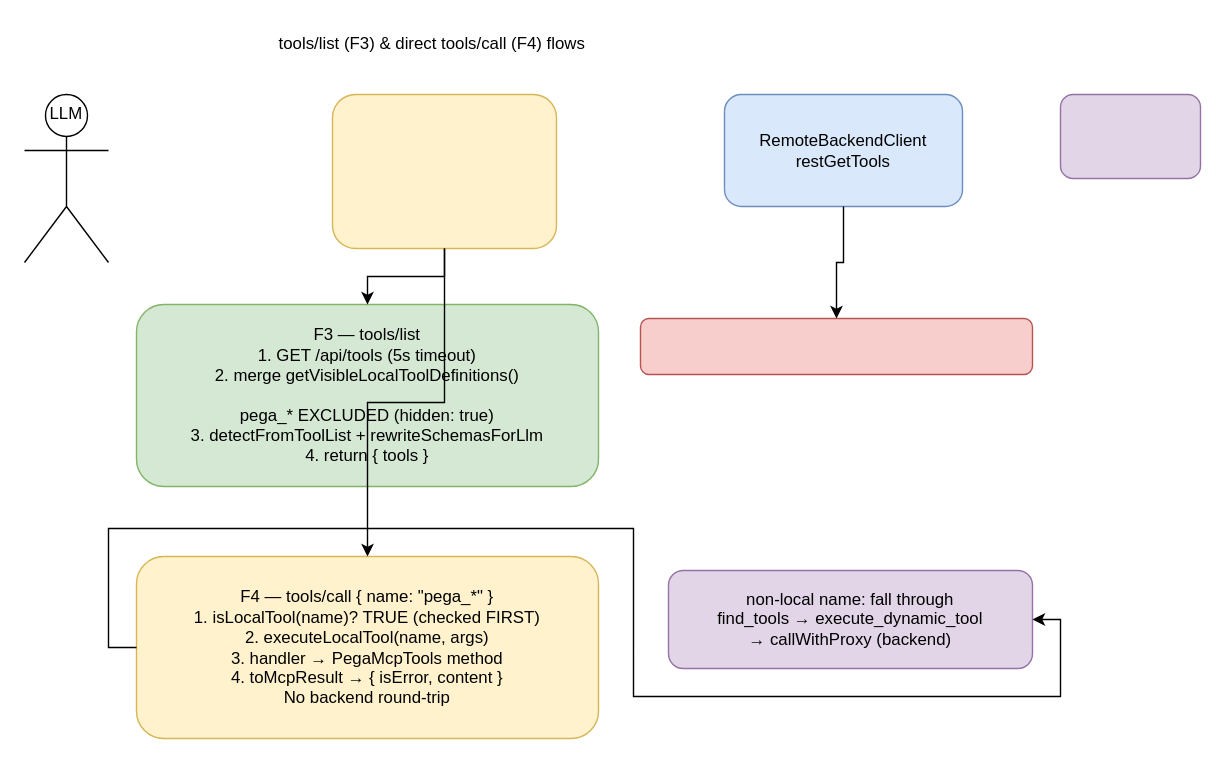
Some shapes in this 1225 by 763 pixel diagram are drawn without their labels. The shapes that lost their labels are listed below. From the top down, each one's centre as x and y in pixels, then its label:
the point at 1129,135: Backend /api/tools
the point at 443,170: WrapperServer getToolsRewritten routeToolCall
the point at 835,345: fallback: backend down → return visible-only local defs
